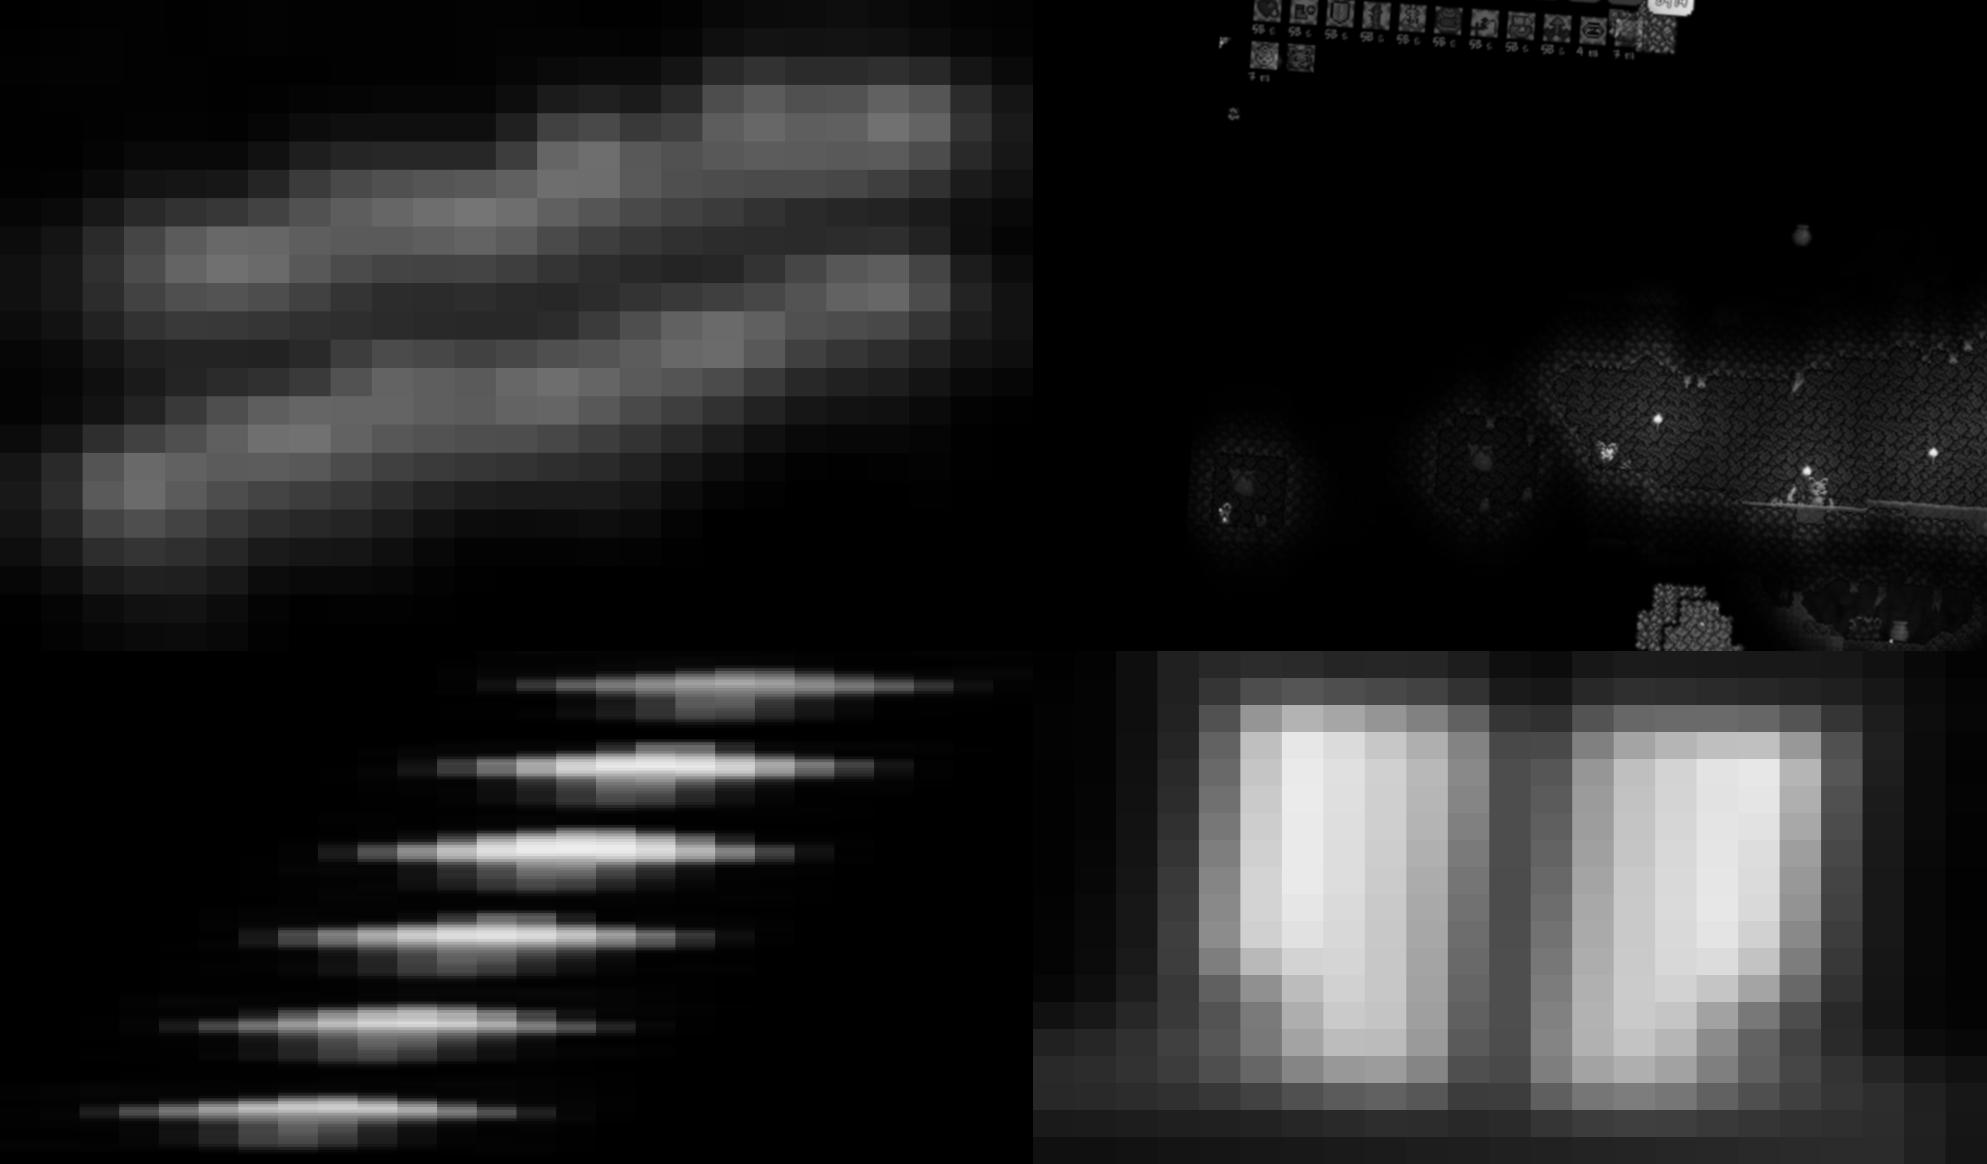legs: (1034, 651, 1987, 1164)
torchT: (398, 661, 1032, 729)
wood: (0, 0, 1034, 651)
